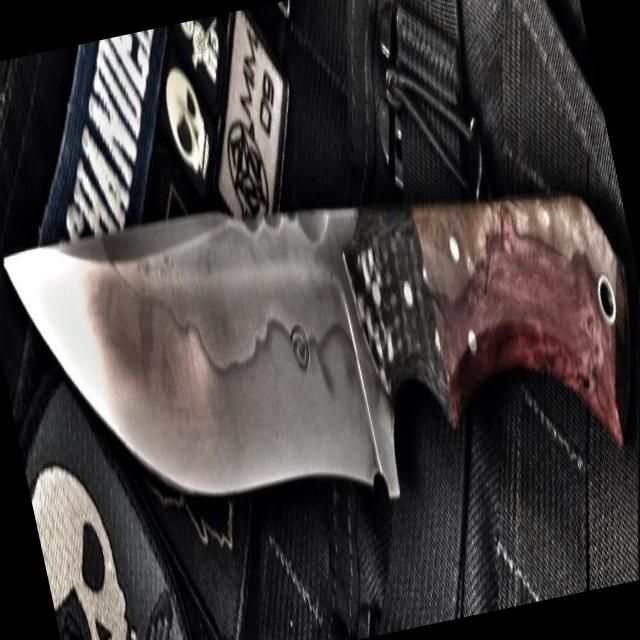Knife: (5, 194, 627, 497)
